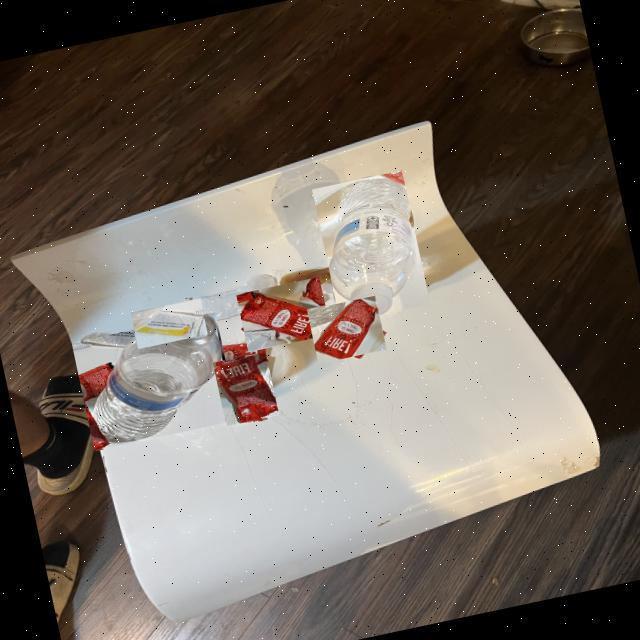Clear plastic bottle: (89, 314, 223, 445), (327, 178, 418, 316)
Other plastic: (242, 290, 327, 340), (215, 354, 276, 421), (316, 299, 378, 356), (135, 307, 204, 337)
